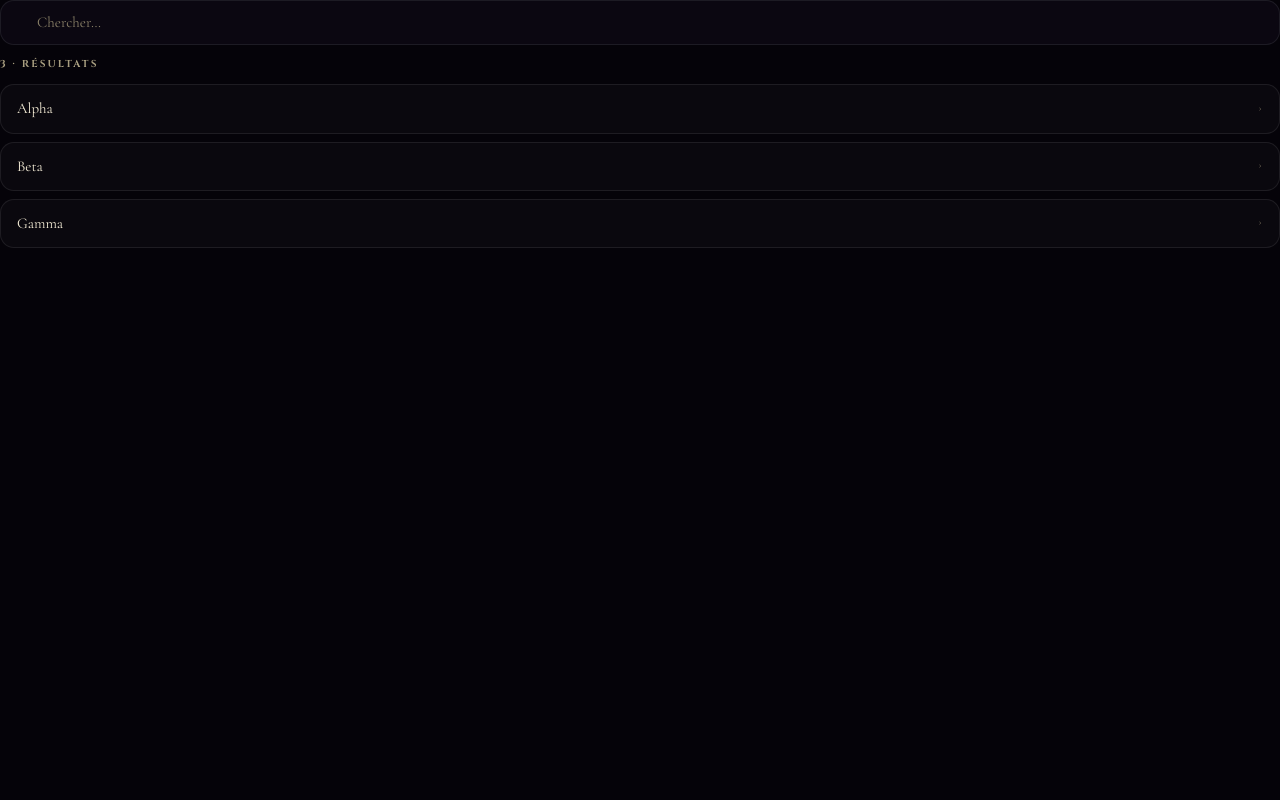
Test case: TextEntityBrowser (Codex) › ouvre la modale avec le titre + le corps exact
Click the text "Beta".
click(30, 166)  # box [17,156,43,174]
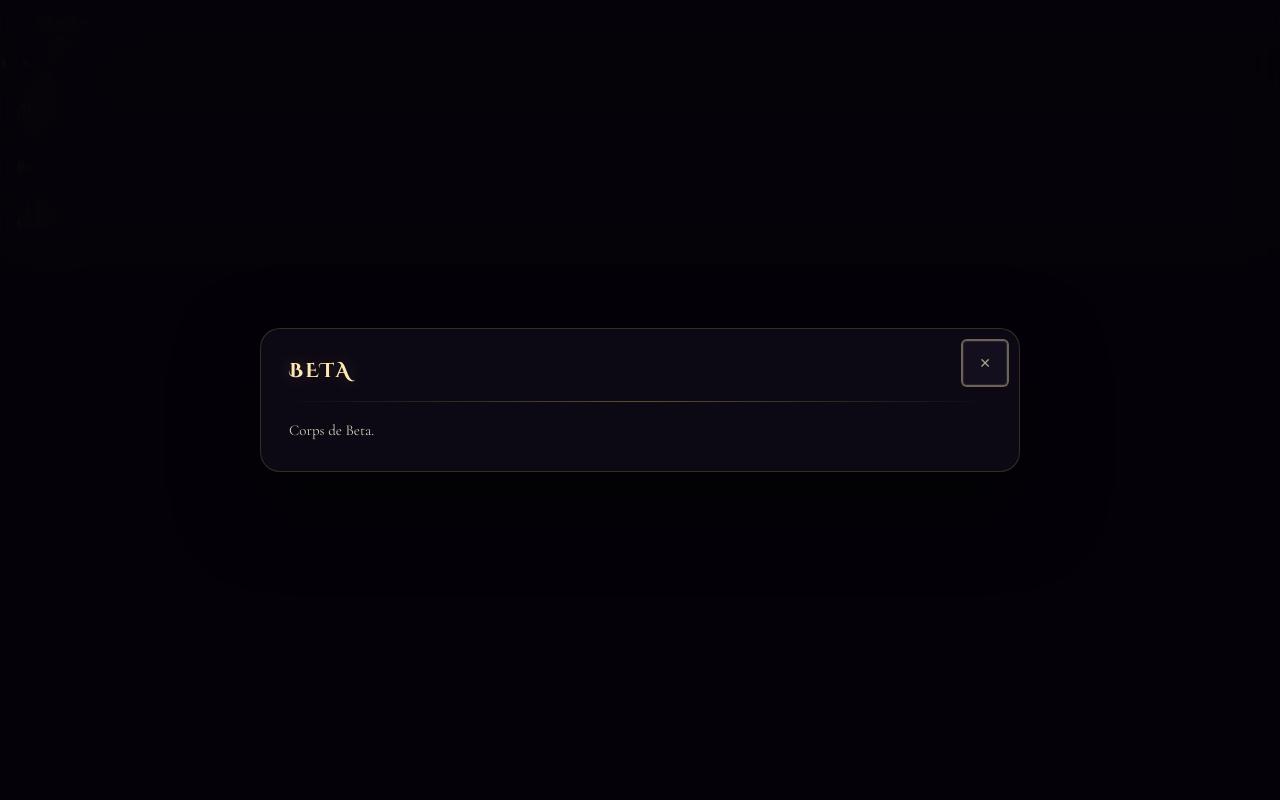
Check: the heading "Beta" is shown, box [289,357,352,384]
Check: the text "Corps de Beta." is shown, box [289,421,374,439]
